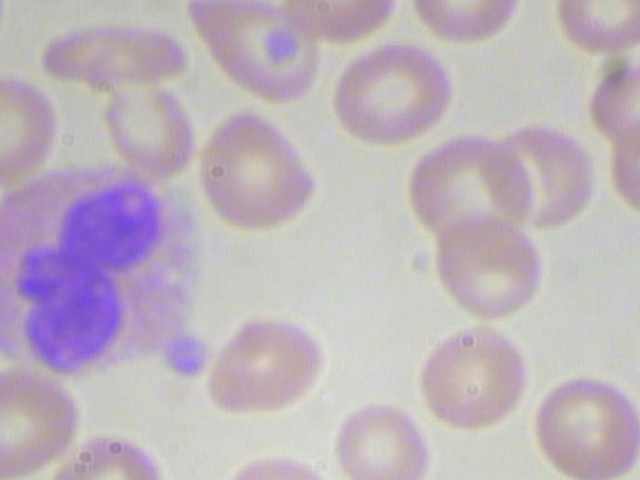Platelets: (162, 332, 215, 381)
RBC: (190, 307, 348, 425), (190, 104, 327, 238), (324, 35, 462, 152), (406, 131, 539, 251), (180, 0, 322, 107), (409, 318, 532, 433), (428, 212, 551, 327), (526, 369, 640, 480), (36, 11, 190, 84), (328, 386, 434, 480), (407, 0, 518, 62), (553, 0, 640, 62), (587, 58, 640, 148), (602, 113, 640, 220)
WBC: (0, 163, 200, 384)
